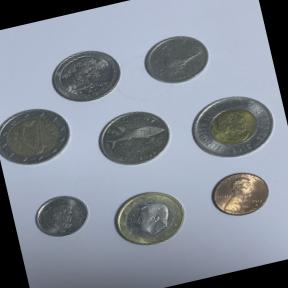coin: (174, 78, 286, 174), (100, 177, 199, 258), (86, 98, 180, 180), (42, 40, 128, 110), (0, 97, 77, 174), (198, 159, 279, 227), (24, 184, 97, 247)
